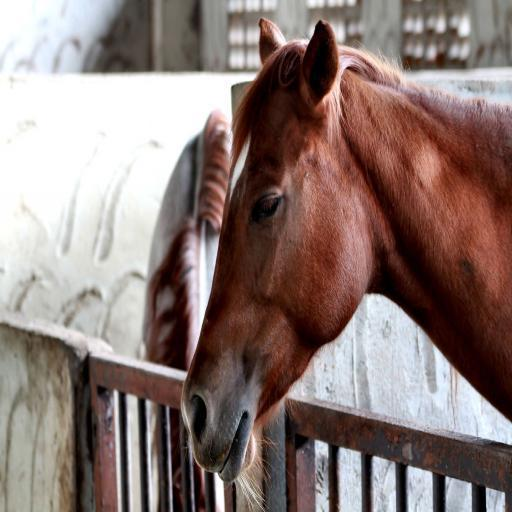horse: (178, 18, 510, 512)
